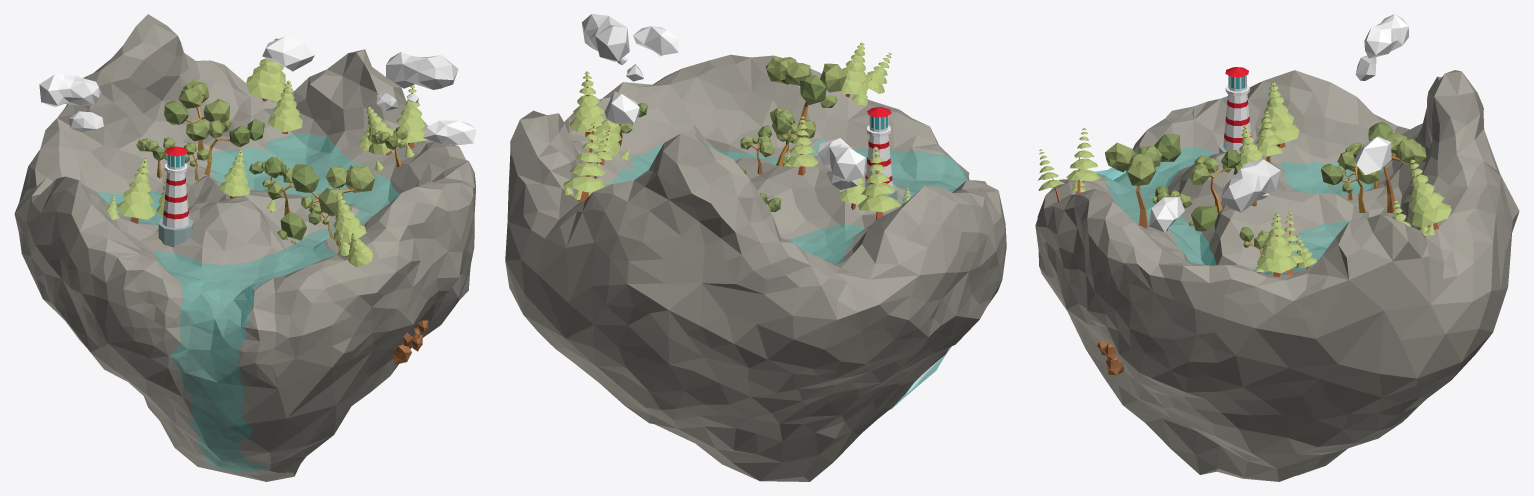
File: phare-island.glb
3 renders of one model, left to right at view 1: azimuth 30°, elevation 25°; view 2: azimuth 150°, elevation 25°; view 3: azimuth 270°, elevation 25°, orthographic. The views are drawn at different scales.
Parts seen in each view (by area): view 1: Icosphere_2, Plane_3, Cylinder.001_6, Cube.001_7, Icosphere.003_26, Cube.003_13, Icosphere.001_24, Plane.006_16, Plane.013_30, Cube.005_15, Icosphere.004_27, Icosphere.005_28 (+11 smaller); view 2: Icosphere_2, Plane_3, Cube.001_7, Icosphere.003_26, Cylinder.001_6, Icosphere.001_24, Plane.013_30, Plane.006_16, Plane.004_11, Icosphere.005_28, Plane.007_17, Cube_4 (+5 smaller); view 3: Icosphere_2, Plane_3, Cube.001_7, Icosphere.003_26, Cylinder.001_6, Plane.013_30, Cube.003_13, Icosphere.001_24, Cube.005_15, Plane.004_11, Plane.006_16, Cube_4 (+6 smaller).
Part boxes in pixels (x1,y1,x2,y2): Icosphere_2: [14, 14, 475, 481]; Plane_3: [97, 133, 399, 472]; Cylinder.001_6: [158, 146, 193, 247]; Cube.001_7: [291, 164, 374, 246]; Icosphere.003_26: [386, 52, 458, 89]; Cube.003_13: [164, 79, 229, 159]; Icosphere.001_24: [39, 74, 101, 106]; Plane.006_16: [117, 158, 156, 223]; Plane.013_30: [246, 38, 285, 101]; Cube.005_15: [186, 117, 250, 175]; Icosphere.004_27: [262, 36, 314, 71]; Icosphere.005_28: [423, 120, 476, 144]; Icosphere_2: [505, 54, 1006, 481]; Plane_3: [605, 139, 969, 409]; Cube.001_7: [765, 56, 846, 137]; Icosphere.003_26: [581, 14, 629, 61]; Cylinder.001_6: [863, 107, 897, 209]; Icosphere.001_24: [817, 138, 865, 181]; Plane.013_30: [563, 122, 605, 202]; Plane.006_16: [858, 146, 900, 219]; Plane.004_11: [569, 71, 605, 136]; Icosphere.005_28: [633, 26, 678, 56]; Plane.007_17: [841, 42, 868, 97]; Cube_4: [770, 107, 815, 166]; Icosphere_2: [1035, 70, 1519, 481]; Plane_3: [1095, 148, 1392, 274]; Cube.001_7: [1105, 134, 1181, 227]; Icosphere.003_26: [1220, 159, 1280, 212]; Cylinder.001_6: [1219, 67, 1253, 153]; Plane.013_30: [1408, 159, 1451, 230]; Cube.003_13: [1353, 121, 1426, 213]; Icosphere.001_24: [1364, 14, 1408, 58]; Cube.005_15: [1321, 142, 1380, 212]; Plane.004_11: [1257, 212, 1296, 276]; Plane.006_16: [1257, 82, 1299, 148]; Cube_4: [1188, 150, 1241, 212].
Bounding box in the file's own units: 47.08 × 43.65 × 47.84.
